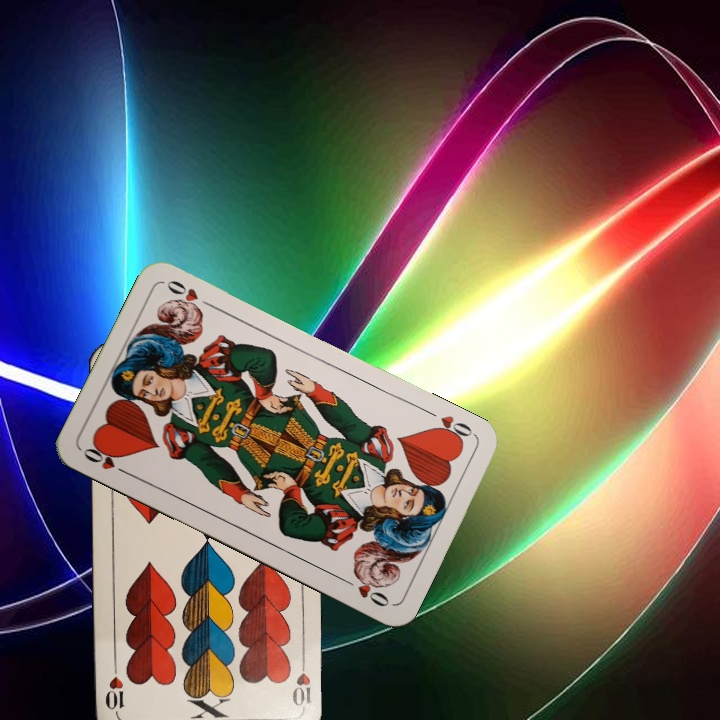H10: (288, 651, 314, 708)
HO: (422, 405, 477, 446), (79, 440, 133, 479)
